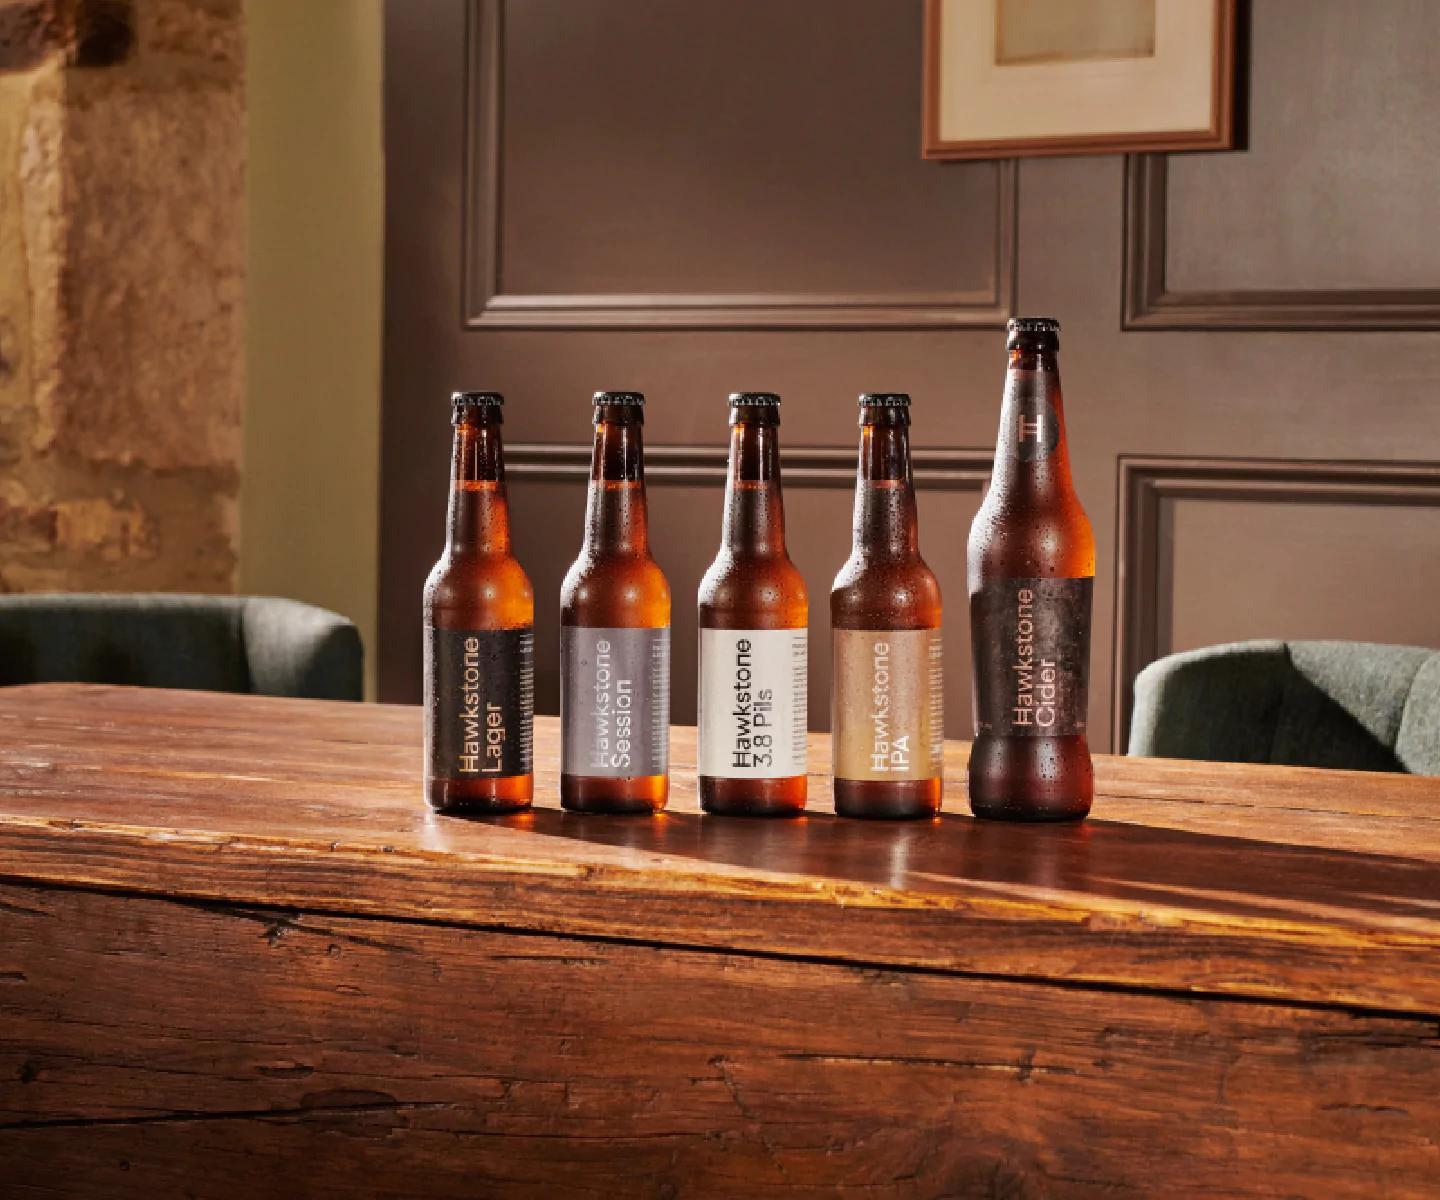glass: (968, 316, 1102, 820), (547, 386, 681, 815), (826, 392, 944, 822), (696, 388, 813, 816), (426, 392, 537, 818)
